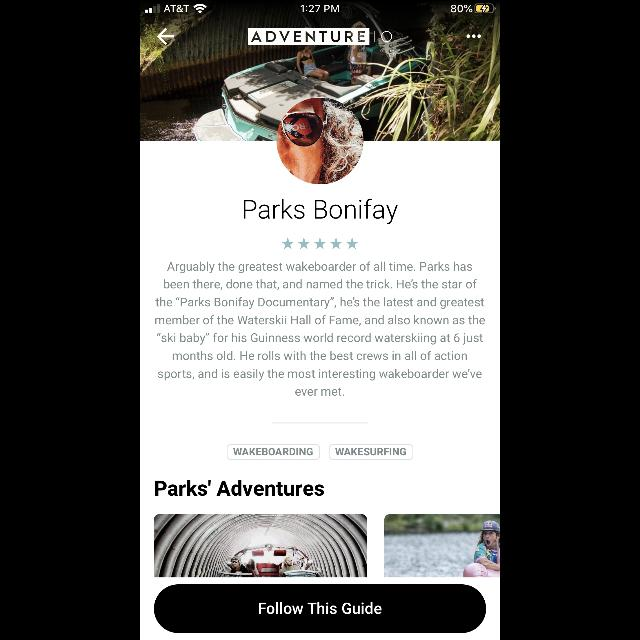icon: (282, 237, 358, 249), (158, 28, 175, 46), (466, 34, 482, 38)
image: (140, 1, 500, 141), (155, 514, 367, 578), (276, 98, 364, 184), (384, 514, 500, 578), (248, 28, 392, 46)
text: (156, 262, 484, 396), (244, 198, 398, 224), (156, 480, 324, 496)
textbutton: (154, 584, 486, 634), (226, 444, 320, 460), (328, 444, 414, 460)
uppertaskbar: (140, 0, 500, 14)
